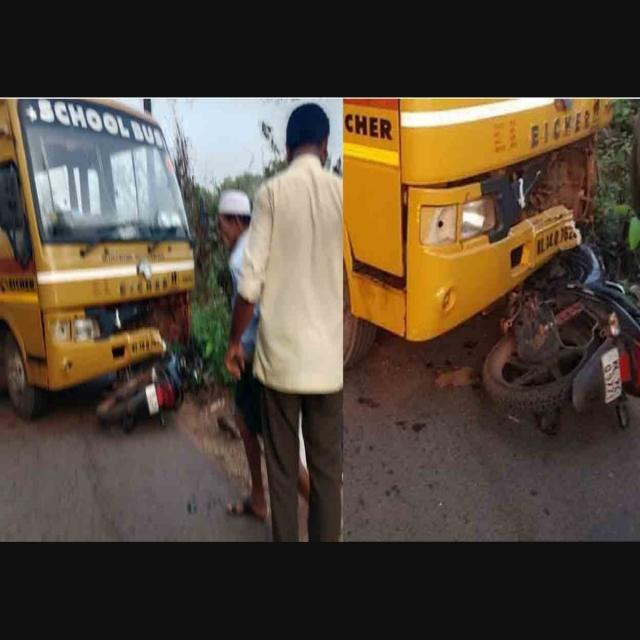accident: (0, 98, 194, 418), (482, 245, 640, 432)
